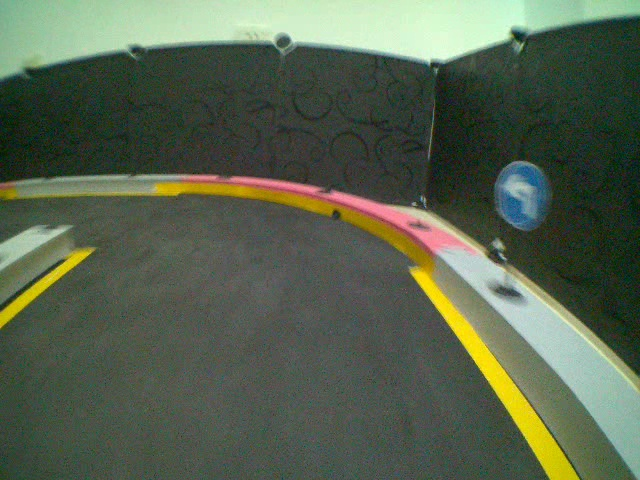turn: (491, 159, 554, 232)
